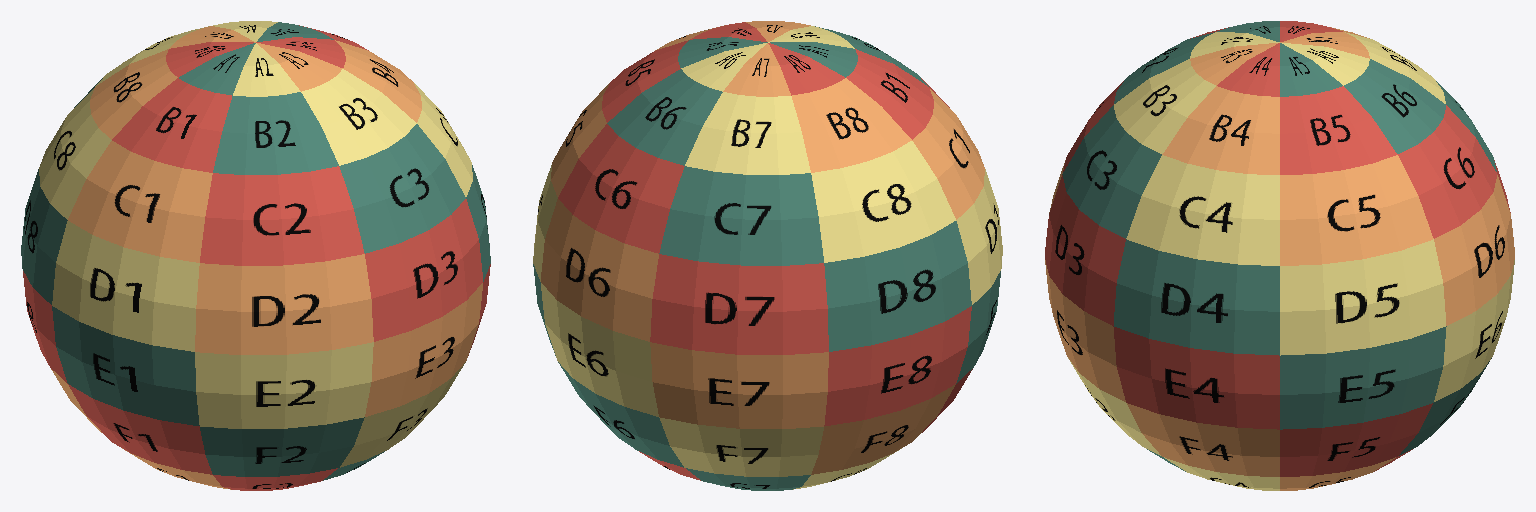
3 views of the same model, side by side, from view 1: azimuth 30°, elevation 25°; view 2: azimuth 150°, elevation 25°; view 3: azimuth 270°, elevation 25° (orthographic).
Parts seen in each view (by area): view 1: Sphere; view 2: Sphere; view 3: Sphere.
Boxes of the visible parts, box(x1,y1,x2,y2) form: Sphere: box(21, 21, 490, 490); Sphere: box(533, 21, 1002, 490); Sphere: box(1045, 21, 1514, 490).
Size of the model in its own units: 2 by 2 by 2.
1 materials, 1 textured.